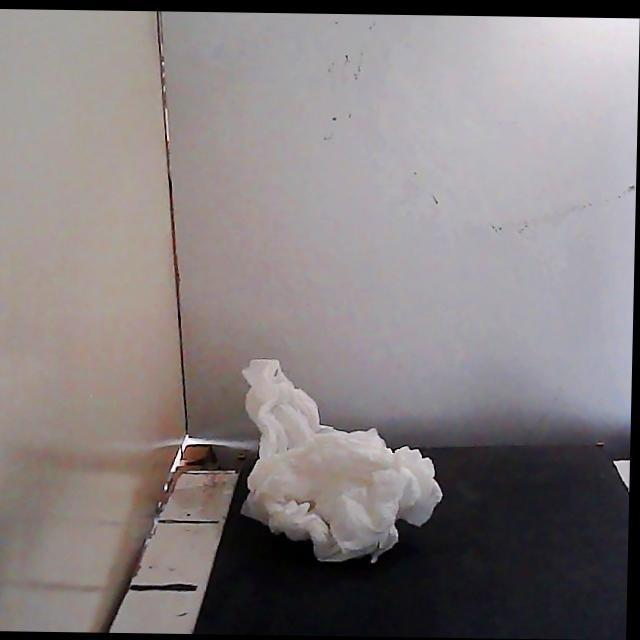papel: (241, 359, 442, 561)
